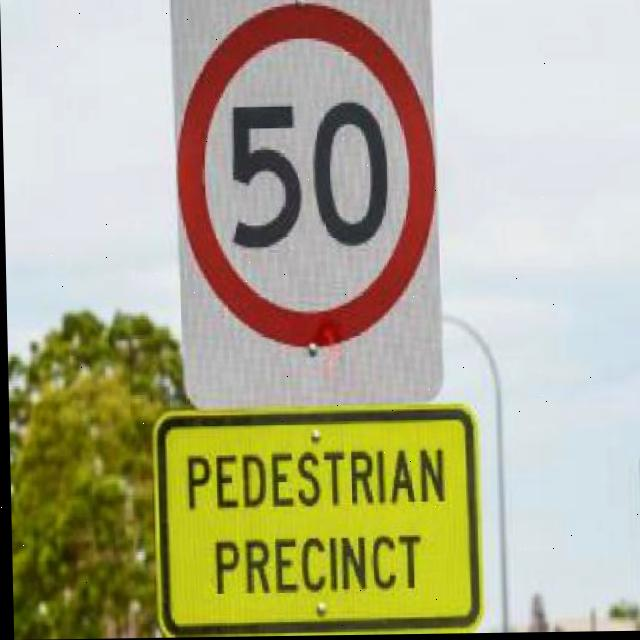Speed limit 50: (170, 1, 444, 362)
